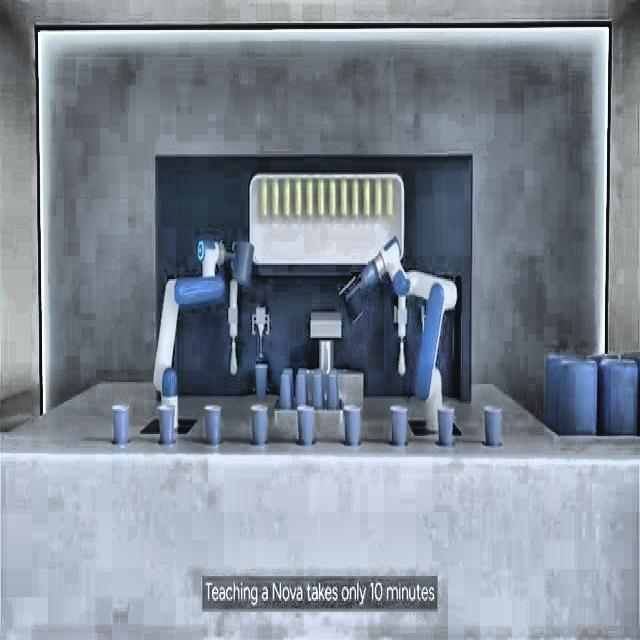robot: (338, 233, 458, 432), (151, 236, 254, 402)
